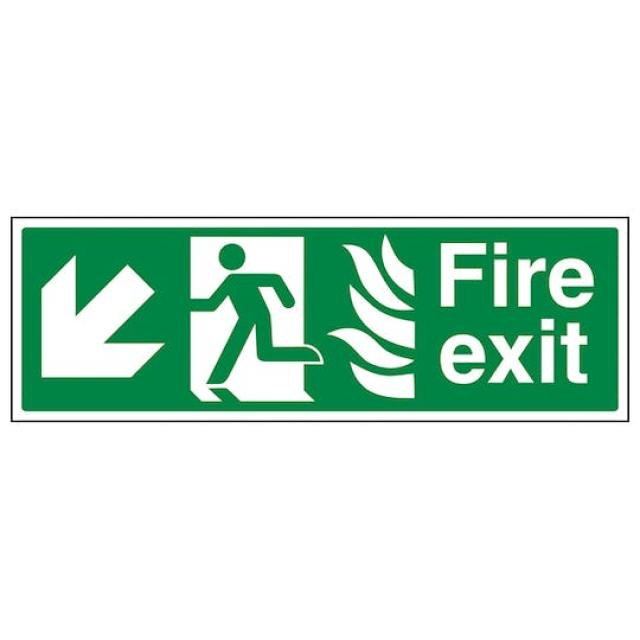exit_sign: (13, 185, 640, 447)
